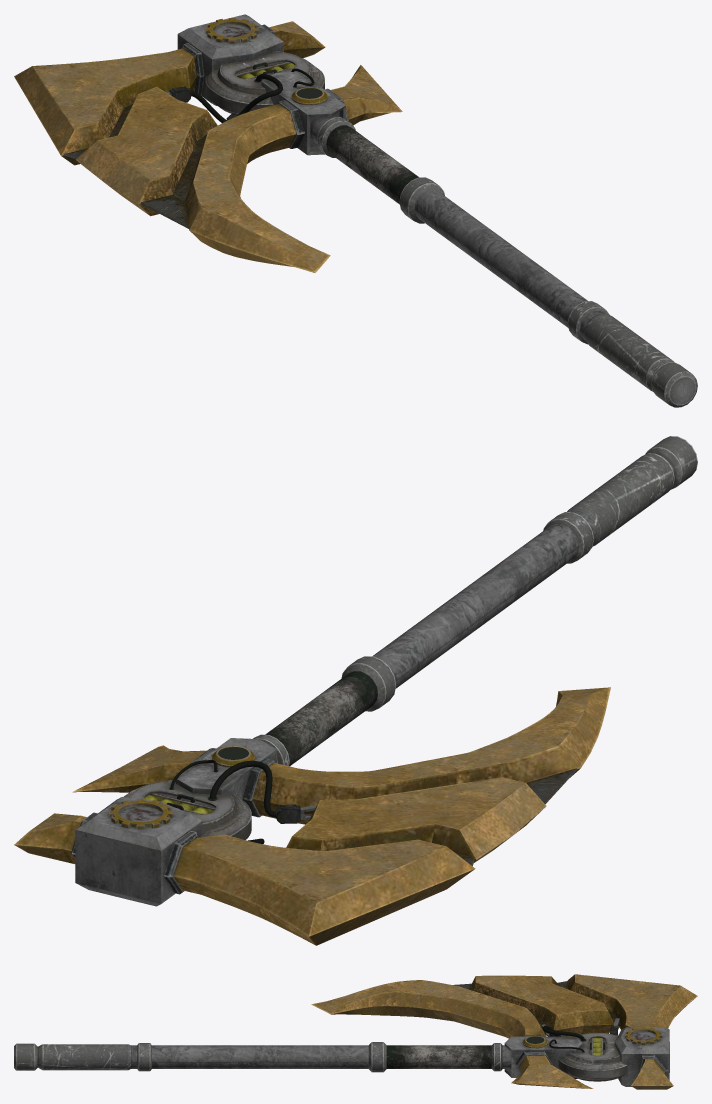
Rendered from item.weapon.foundry_breaker.glb.
The picture shows the model from 3 angles, top to bottom: view 1: azimuth 30°, elevation 25°; view 2: azimuth 150°, elevation 25°; view 3: azimuth 270°, elevation 25°; orthographic projection. The views are drawn at different scales.
Parts seen in each view (by area): view 1: Axe; view 2: Axe; view 3: Axe.
Boxes of the visible parts, <box> form: Axe: <box>14,14,697,407</box>; Axe: <box>14,436,697,945</box>; Axe: <box>14,974,697,1089</box>.
Size of the model in its own units: 0.4509 by 0.0822 by 1.2.
3 materials, 3 textured.
